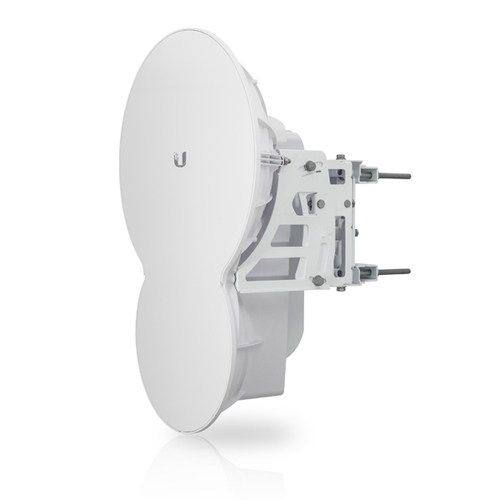ba: (104, 17, 345, 448)
